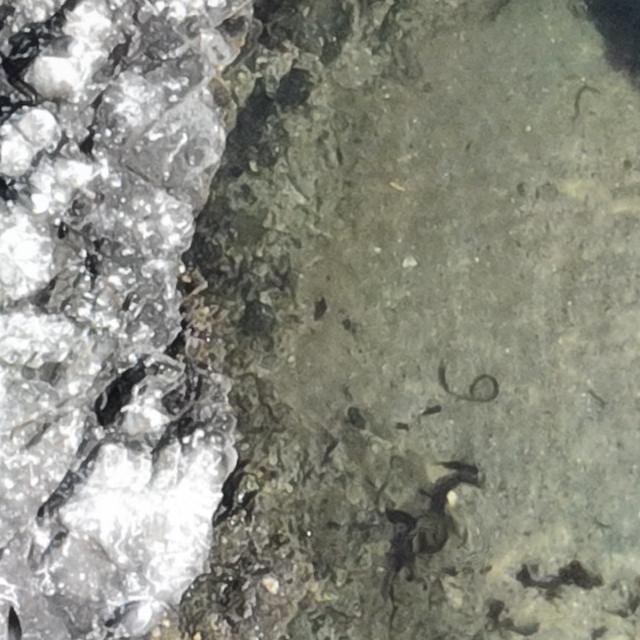umineko: (11, 177, 48, 212), (115, 604, 152, 636), (40, 34, 84, 59)
